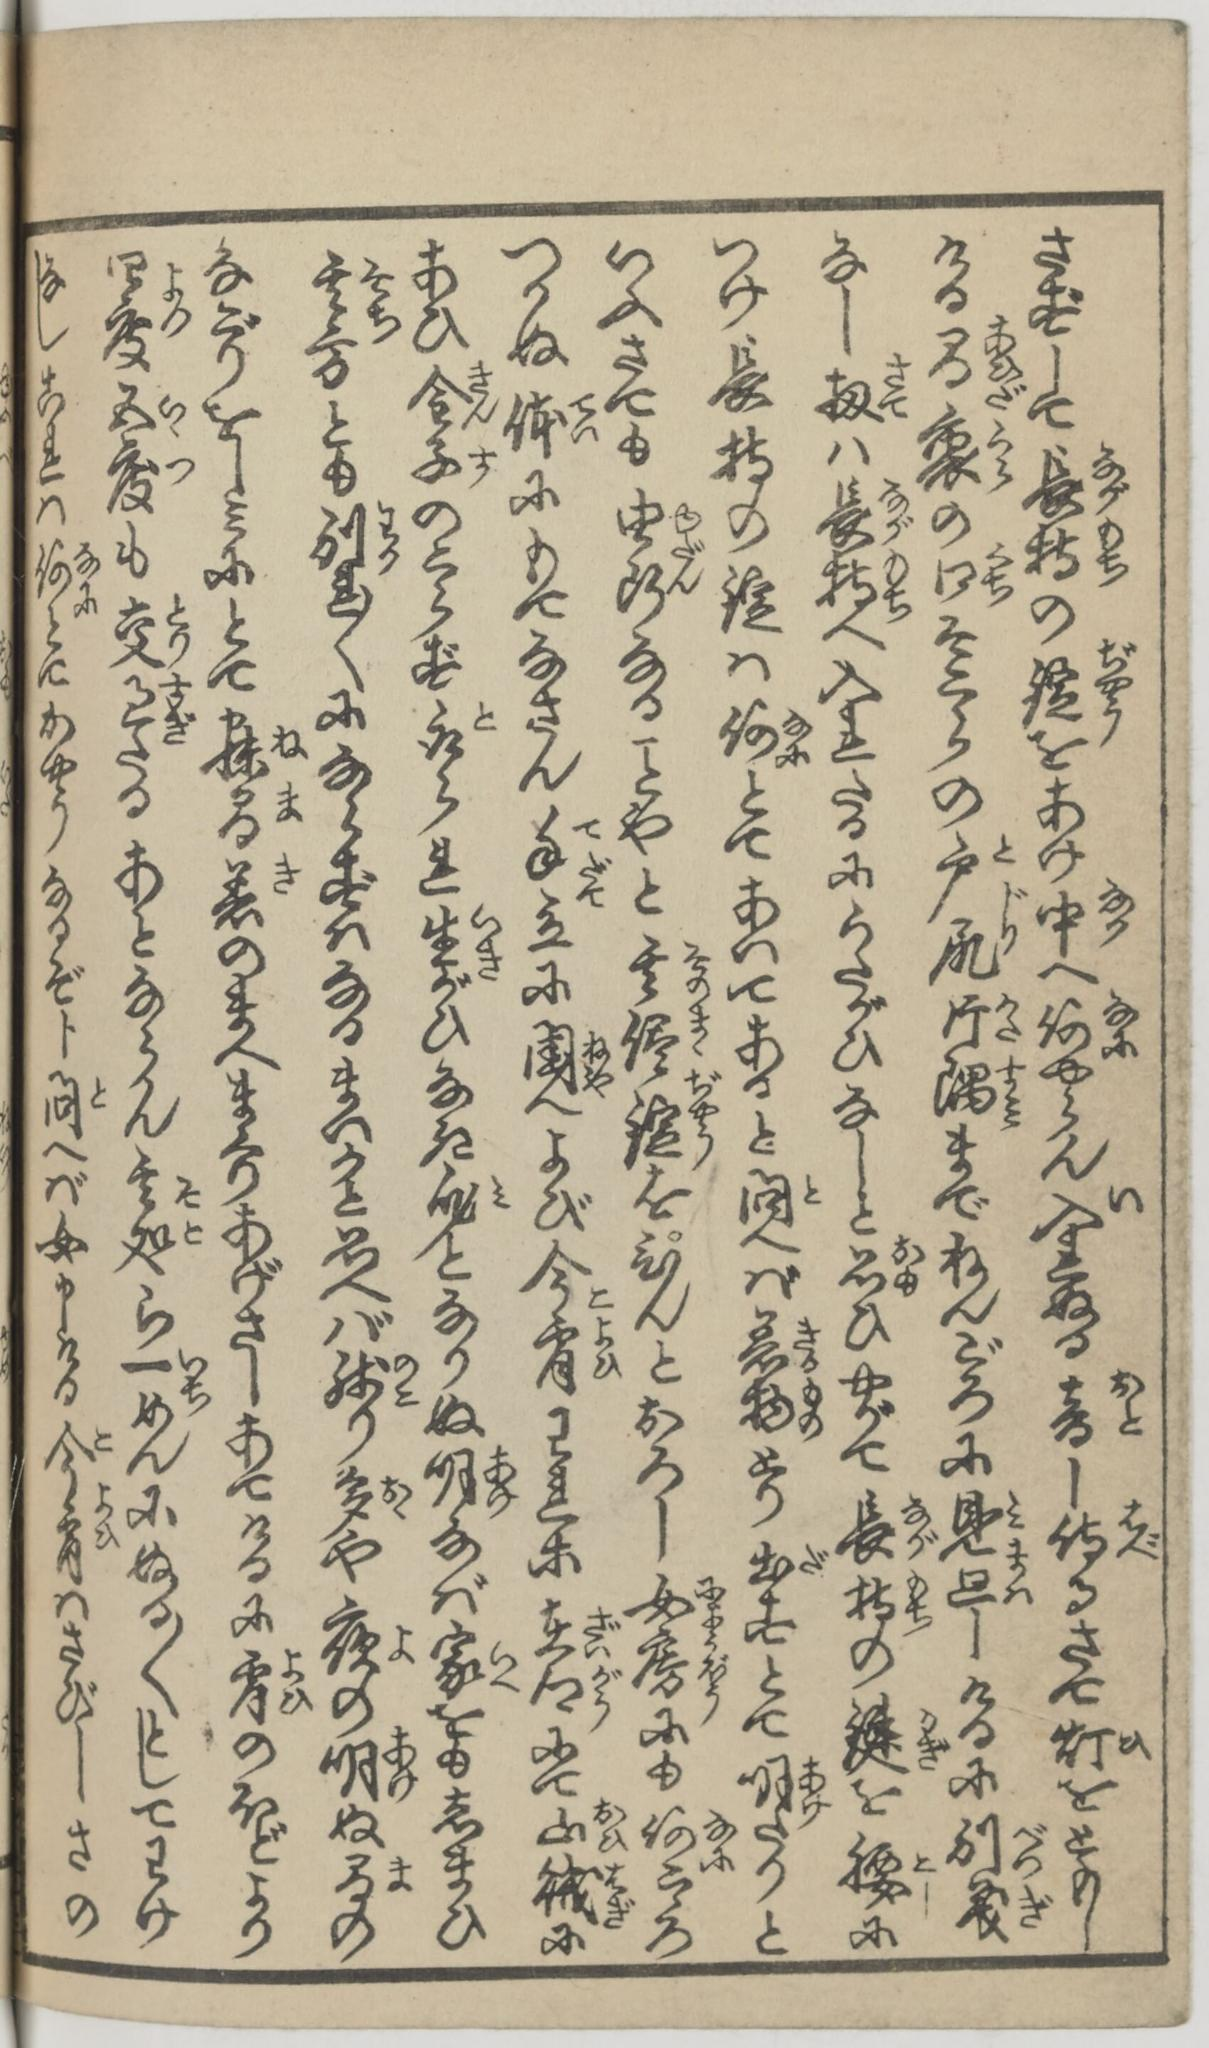MainZone-Character: (913, 812, 1028, 937), (910, 305, 1031, 416), (1019, 636, 1143, 741), (923, 875, 1033, 992), (911, 394, 1019, 504), (520, 846, 619, 959), (620, 1069, 725, 1169), (835, 1693, 950, 1776), (111, 1340, 220, 1425), (1019, 443, 1138, 521), (317, 1724, 426, 1808), (628, 1631, 734, 1716), (1046, 1364, 1151, 1449), (207, 851, 312, 935), (301, 305, 400, 393), (934, 1481, 1036, 1566), (936, 1536, 1045, 1615), (427, 1621, 530, 1704), (200, 707, 314, 781), (923, 1055, 1032, 1133), (518, 794, 610, 887), (1033, 885, 1144, 961), (312, 1596, 423, 1672), (810, 474, 917, 553), (423, 1439, 524, 1523), (522, 1313, 625, 1395), (514, 1016, 616, 1098), (1020, 521, 1141, 590), (1045, 1501, 1170, 1567), (530, 1854, 636, 1931), (42, 1481, 121, 1585), (311, 1465, 419, 1540), (606, 485, 710, 561), (810, 551, 920, 623), (96, 445, 206, 517), (810, 351, 915, 426), (1035, 992, 1147, 1061), (839, 1834, 940, 1910), (304, 497, 404, 573), (502, 387, 604, 462), (835, 1490, 936, 1564), (99, 301, 199, 376), (1028, 1182, 1151, 1241), (619, 1000, 712, 1078), (520, 1241, 620, 1313), (737, 1750, 832, 1826), (315, 1349, 426, 1413), (715, 698, 815, 770), (225, 1646, 314, 1726), (420, 902, 508, 982), (835, 1231, 931, 1302), (947, 1813, 1056, 1877), (643, 1803, 737, 1877), (407, 358, 501, 432), (957, 1881, 1061, 1947), (930, 990, 1031, 1058), (730, 1376, 830, 1444), (108, 596, 199, 669), (622, 931, 714, 1003), (1045, 1718, 1163, 1775), (625, 1570, 731, 1632), (841, 1566, 936, 1635), (114, 1215, 209, 1284), (609, 561, 710, 625), (730, 1166, 829, 1229), (533, 1664, 626, 1728), (422, 1166, 515, 1231), (119, 1148, 213, 1213), (112, 674, 196, 746), (931, 543, 1019, 609), (535, 1799, 636, 1857), (214, 783, 308, 845), (412, 694, 502, 757), (37, 1069, 115, 1143), (733, 1308, 822, 1372), (534, 1599, 625, 1661), (741, 1530, 830, 1592), (33, 540, 104, 617), (309, 242, 399, 302), (98, 383, 190, 439), (407, 435, 501, 489), (334, 1848, 420, 1904), (40, 1416, 121, 1475), (108, 245, 190, 301)
MainZone-Ruby: (1092, 640, 1138, 740), (986, 314, 1026, 407), (685, 1072, 723, 1166), (383, 1724, 423, 1803), (1098, 993, 1143, 1062), (484, 1439, 522, 1518), (1092, 443, 1134, 517), (1118, 1503, 1164, 1566), (877, 472, 915, 547), (466, 904, 504, 980), (1097, 885, 1143, 947), (174, 1343, 214, 1413), (1110, 1369, 1149, 1441), (160, 675, 196, 750), (484, 1631, 524, 1697), (699, 1632, 731, 1714), (577, 1025, 613, 1097), (913, 1701, 948, 1770), (1098, 522, 1136, 589), (1009, 1818, 1051, 1877), (796, 1752, 830, 1822), (875, 354, 913, 419), (774, 705, 813, 767), (901, 1491, 937, 1557), (281, 1646, 314, 1717), (699, 1809, 735, 1874), (900, 1563, 933, 1632), (892, 1233, 930, 1294), (89, 1475, 119, 1550), (465, 361, 499, 426), (603, 1859, 635, 1930), (567, 386, 603, 448), (581, 1603, 622, 1658), (72, 543, 101, 619), (1006, 1539, 1038, 1608), (1000, 885, 1031, 957), (577, 852, 613, 912), (371, 497, 400, 571), (589, 1313, 622, 1377), (884, 553, 914, 623), (982, 544, 1016, 604), (986, 420, 1015, 492), (581, 1669, 620, 1723), (669, 499, 702, 561), (1102, 1182, 1153, 1222), (592, 1800, 630, 1852), (796, 1377, 828, 1441), (787, 1314, 822, 1372), (265, 852, 308, 898), (271, 715, 308, 767), (379, 1469, 415, 1523), (681, 938, 712, 997), (387, 1615, 422, 1668), (1000, 1058, 1026, 1128), (1016, 1884, 1055, 1930), (160, 448, 199, 494), (166, 596, 191, 665), (391, 1349, 420, 1409), (996, 993, 1026, 1048), (698, 1573, 728, 1628), (465, 438, 497, 489), (170, 1169, 206, 1213), (361, 253, 396, 299), (155, 390, 189, 438), (272, 783, 305, 830), (1120, 1726, 1159, 1766), (666, 563, 707, 602), (796, 1541, 832, 1583), (1000, 1482, 1031, 1531), (688, 1006, 714, 1061), (157, 302, 193, 340), (987, 826, 1019, 868), (387, 1855, 419, 1897), (367, 305, 400, 344), (469, 699, 501, 737), (573, 815, 606, 848), (583, 1277, 615, 1311), (157, 256, 183, 298), (486, 1172, 511, 1215), (802, 1167, 826, 1209), (177, 1218, 209, 1249), (911, 1845, 937, 1881), (83, 1074, 109, 1108), (91, 1422, 117, 1456)
